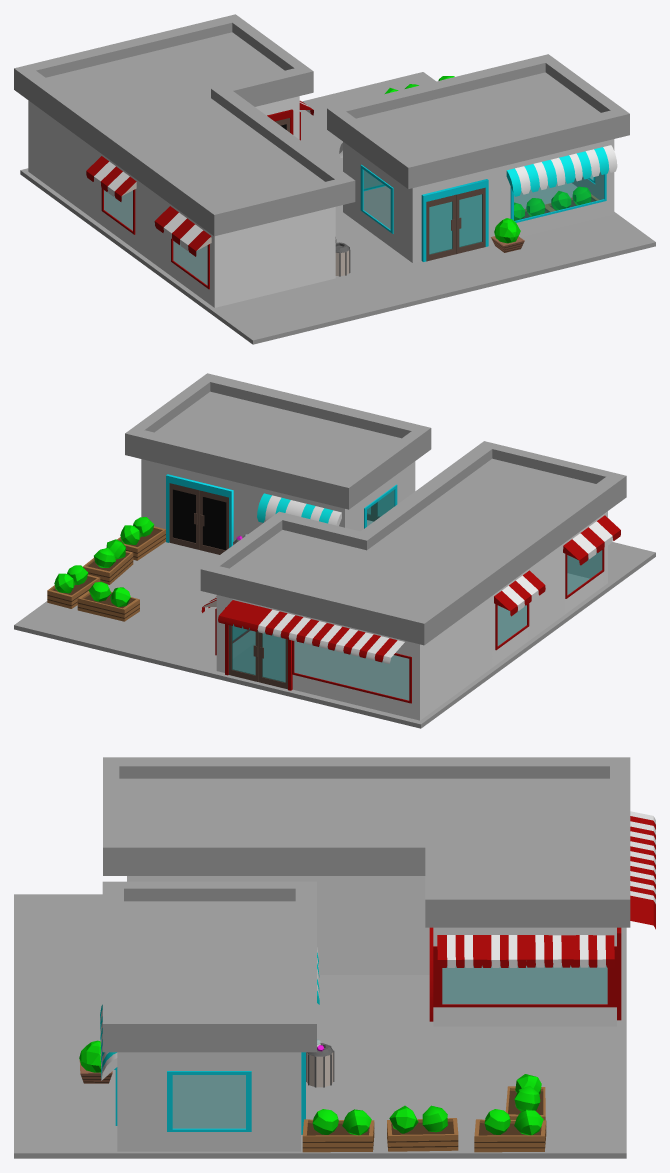
File: Building_Cafe_Mod_02.fbx
3 views of the same model, one above another, from view 1: azimuth 30°, elevation 25°; view 2: azimuth 150°, elevation 25°; view 3: azimuth 270°, elevation 25° (orthographic). The views are drawn at different scales.
Visible parts, largest first — view 1: Building12, Building11, BuildingBase21, Door2, Door3, Bush14, Bush12, Bush13, Trashcan4; view 2: Building12, Building11, BuildingBase21, Bush18, Door15, Door14, Bush17, Bush16, Bush15; view 3: Building12, BuildingBase21, Building11, Bush16, Bush15, Bush17, Bush18, TrashcanFull1, Bush14.
Part boxes in pixels (x1=…): Building12: x1=14, y1=14, x2=355, y2=307; Building11: x1=327, y1=54, x2=629, y2=262; BuildingBase21: x1=20, y1=72, x2=655, y2=344; Door2: x1=426, y1=194, x2=455, y2=261; Door3: x1=456, y1=187, x2=485, y2=254; Bush14: x1=491, y1=218, x2=524, y2=252; Bush12: x1=545, y1=186, x2=598, y2=211; Bush13: x1=514, y1=198, x2=552, y2=220; Trashcan4: x1=335, y1=242, x2=350, y2=276; Building12: x1=200, y1=441, x2=626, y2=720; Building11: x1=125, y1=373, x2=431, y2=554; BuildingBase21: x1=14, y1=490, x2=655, y2=728; Bush18: x1=77, y1=581, x2=139, y2=621; Door15: x1=228, y1=624, x2=258, y2=681; Door14: x1=259, y1=632, x2=287, y2=689; Bush17: x1=47, y1=565, x2=100, y2=608; Bush16: x1=83, y1=539, x2=133, y2=584; Bush15: x1=117, y1=517, x2=165, y2=560; Building12: x1=103, y1=757, x2=655, y2=1026; BuildingBase21: x1=14, y1=894, x2=626, y2=1158; Building11: x1=100, y1=881, x2=319, y2=1151; Bush16: x1=387, y1=1105, x2=458, y2=1151; Bush15: x1=302, y1=1109, x2=374, y2=1152; Bush17: x1=474, y1=1109, x2=546, y2=1152; Bush18: x1=505, y1=1074, x2=545, y2=1120; TrashcanFull1: x1=306, y1=1039, x2=334, y2=1087; Bush14: x1=79, y1=1040, x2=112, y2=1083.
Bounding box in the file's own units: 10.47 × 2.52 × 10.48.
